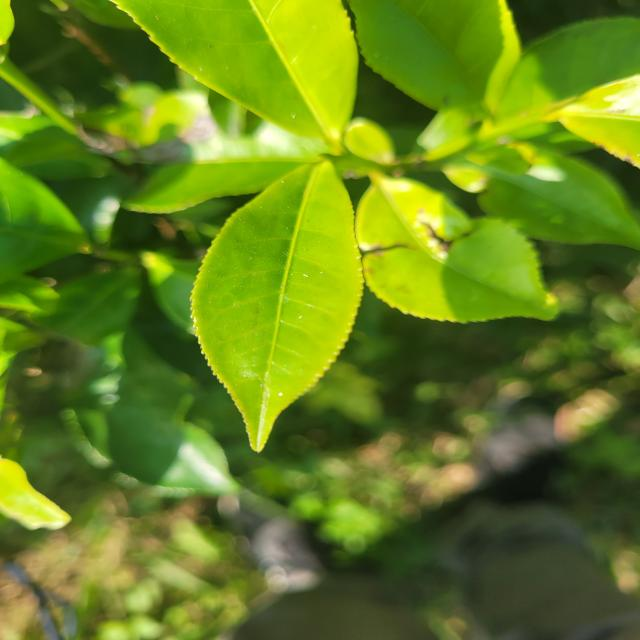Catagory A(1-2 days): (166, 144, 374, 466)
